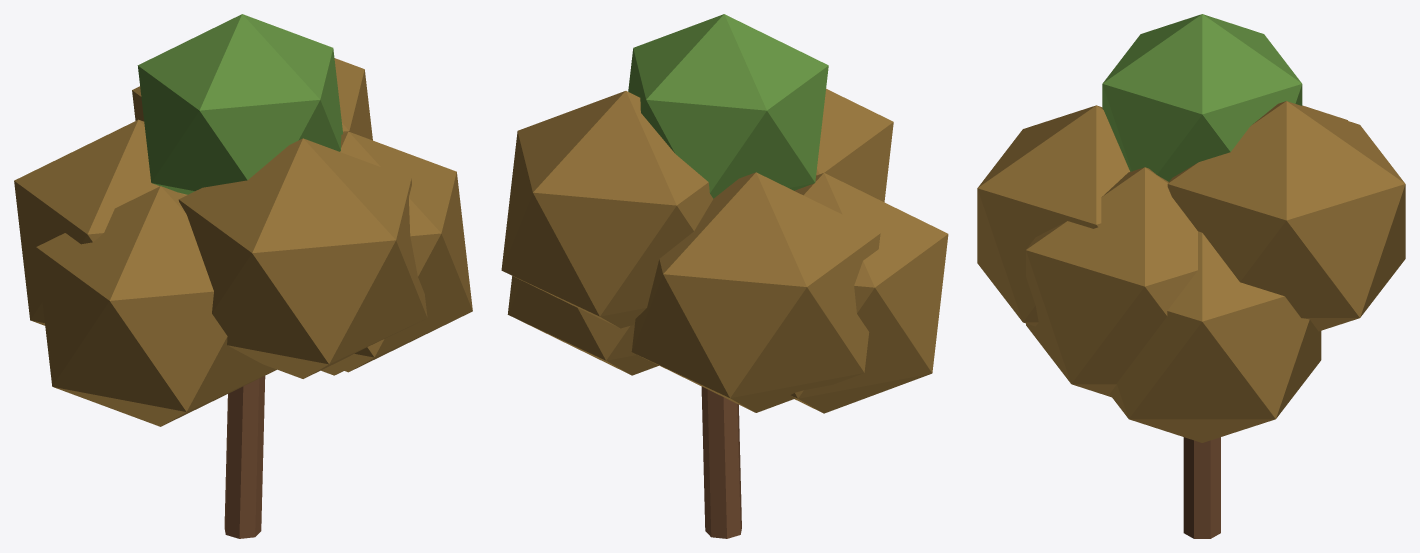
File: tree_25.glb
3 renders of one model, left to right at view 1: azimuth 30°, elevation 25°; view 2: azimuth 150°, elevation 25°; view 3: azimuth 270°, elevation 25°, orthographic.
Parts seen in each view (by area): view 1: tree_25; view 2: tree_25; view 3: tree_25.
Part boxes in pixels (x1=…): tree_25: x1=14, y1=14, x2=472, y2=538; tree_25: x1=501, y1=14, x2=948, y2=538; tree_25: x1=977, y1=14, x2=1405, y2=538.
Size of the model in its own units: 3.63 by 4.49 by 3.37.
